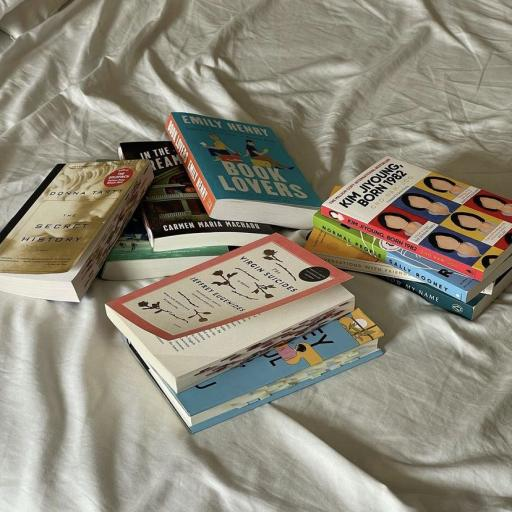bed: (321, 156, 512, 284), (0, 160, 153, 302), (166, 112, 321, 229)
crosswalk: (105, 230, 356, 393)
